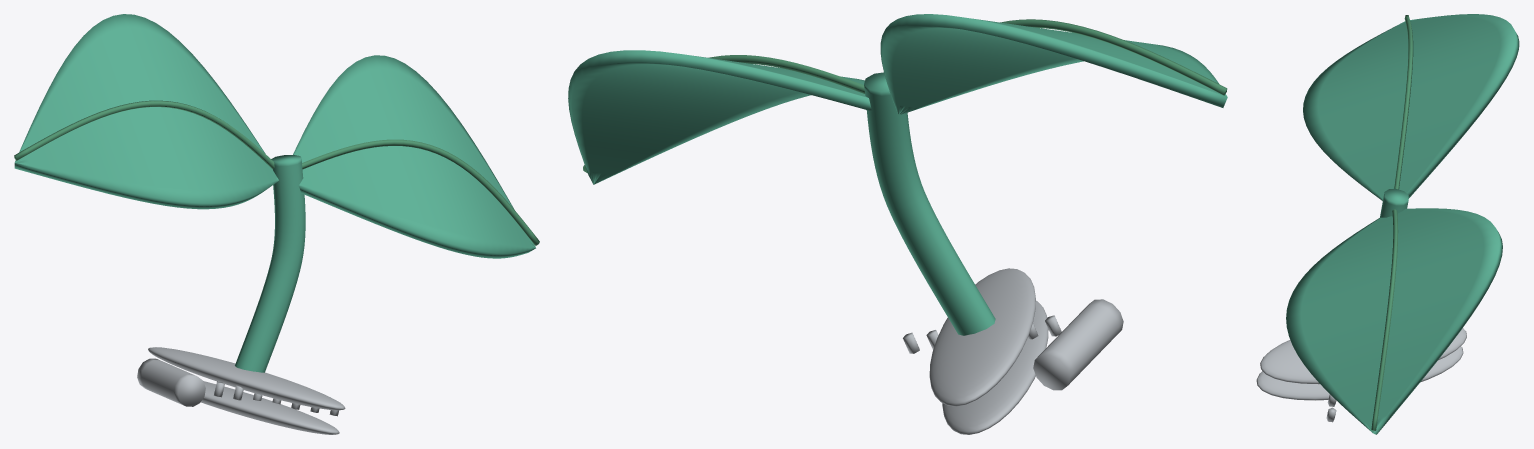
Rendered from Masculine-afro-headband251-sprout.glb.
3 renders of one model, left to right at view 1: azimuth 30°, elevation 25°; view 2: azimuth 150°, elevation 25°; view 3: azimuth 270°, elevation 25°, orthographic. The views are drawn at different scales.
Visible parts, largest first — view 1: 226 extra / Accessory / mint226, 226 extra / Sprout / clip silver235, 226 extra / Sprout / leaf vein235; view 2: 226 extra / Accessory / mint226, 226 extra / Sprout / clip silver235, 226 extra / Sprout / leaf vein235; view 3: 226 extra / Accessory / mint226, 226 extra / Sprout / clip silver235, 226 extra / Sprout / leaf vein235.
Boxes of the visible parts, x1,y1,x2,y2 form: 226 extra / Accessory / mint226: (14,14,535,372); 226 extra / Sprout / clip silver235: (137,347,345,434); 226 extra / Sprout / leaf vein235: (14,100,539,245); 226 extra / Accessory / mint226: (568,14,1227,335); 226 extra / Sprout / clip silver235: (903,268,1123,434); 226 extra / Sprout / leaf vein235: (583,19,1227,173); 226 extra / Accessory / mint226: (1286,14,1519,434); 226 extra / Sprout / clip silver235: (1256,328,1466,422); 226 extra / Sprout / leaf vein235: (1371,15,1413,430).
Bounding box in the file's own units: 0.2547 × 0.172 × 0.1221.
